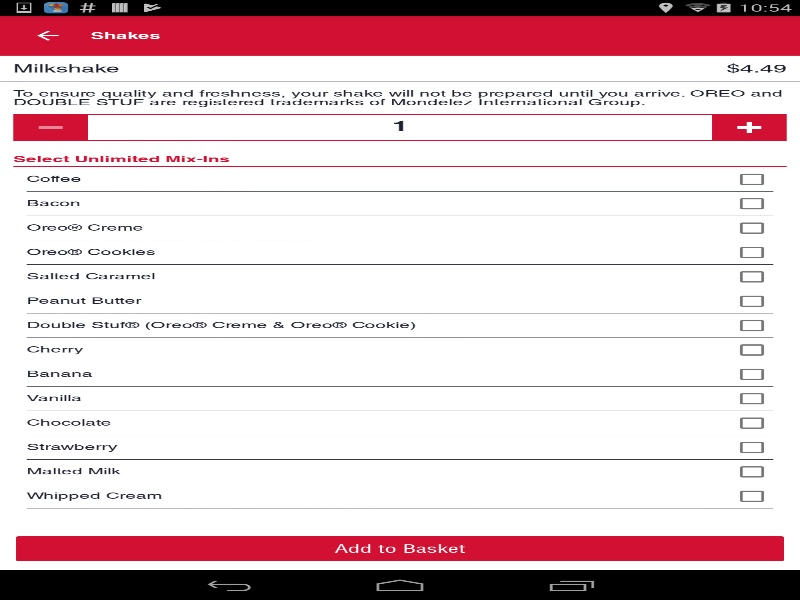Button: (10, 532, 789, 565), (10, 18, 85, 53), (13, 113, 85, 141), (714, 113, 786, 141)
Input: (85, 113, 714, 141)
